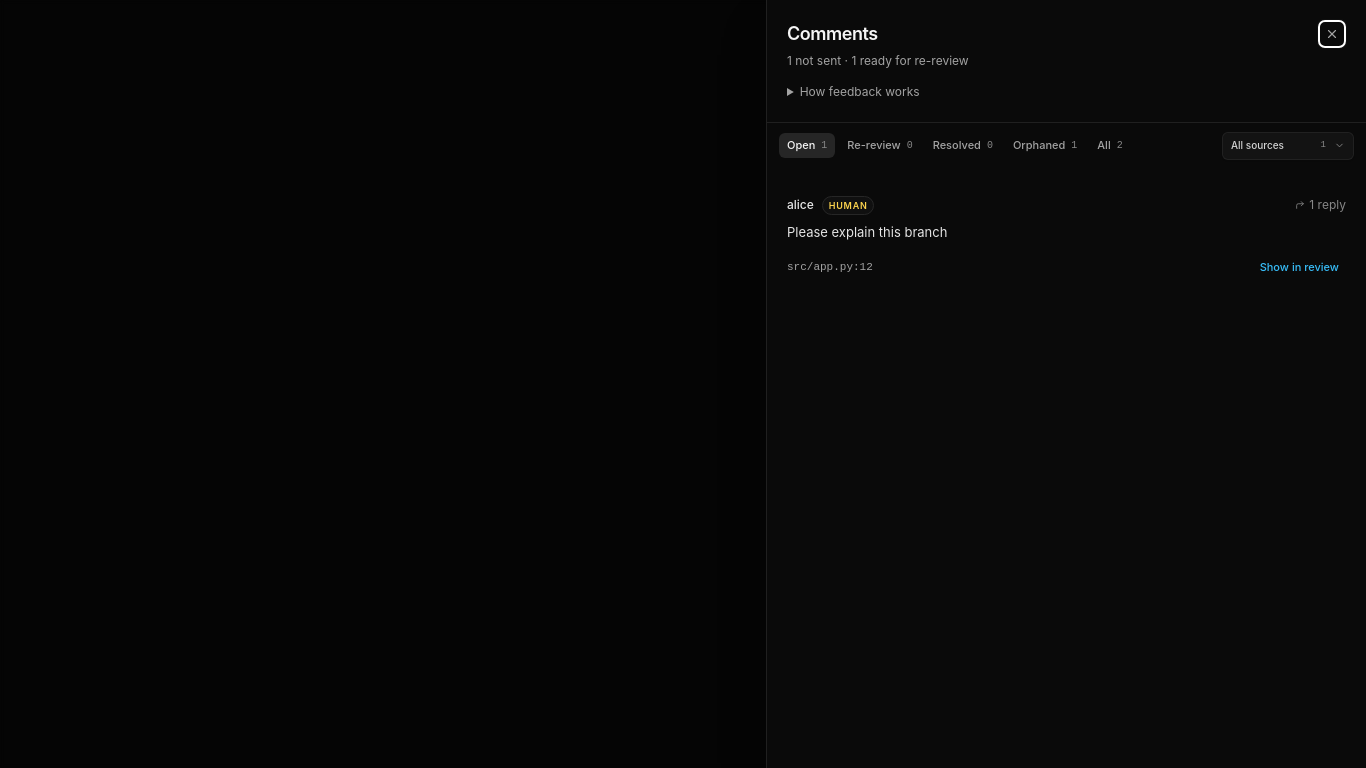
Test: ReviewCommentsSheet › shows the coding-agent handoff lifecycle and jumps only current anchored comments
Expected: the text "Please explain this branch" is shown, [787, 224, 947, 240]
Expected: the text "1 not sent · 1 ready for re-review" is shown, [787, 53, 969, 68]
Click the button "Show in review": (1299, 267) [1253, 253, 1346, 281]
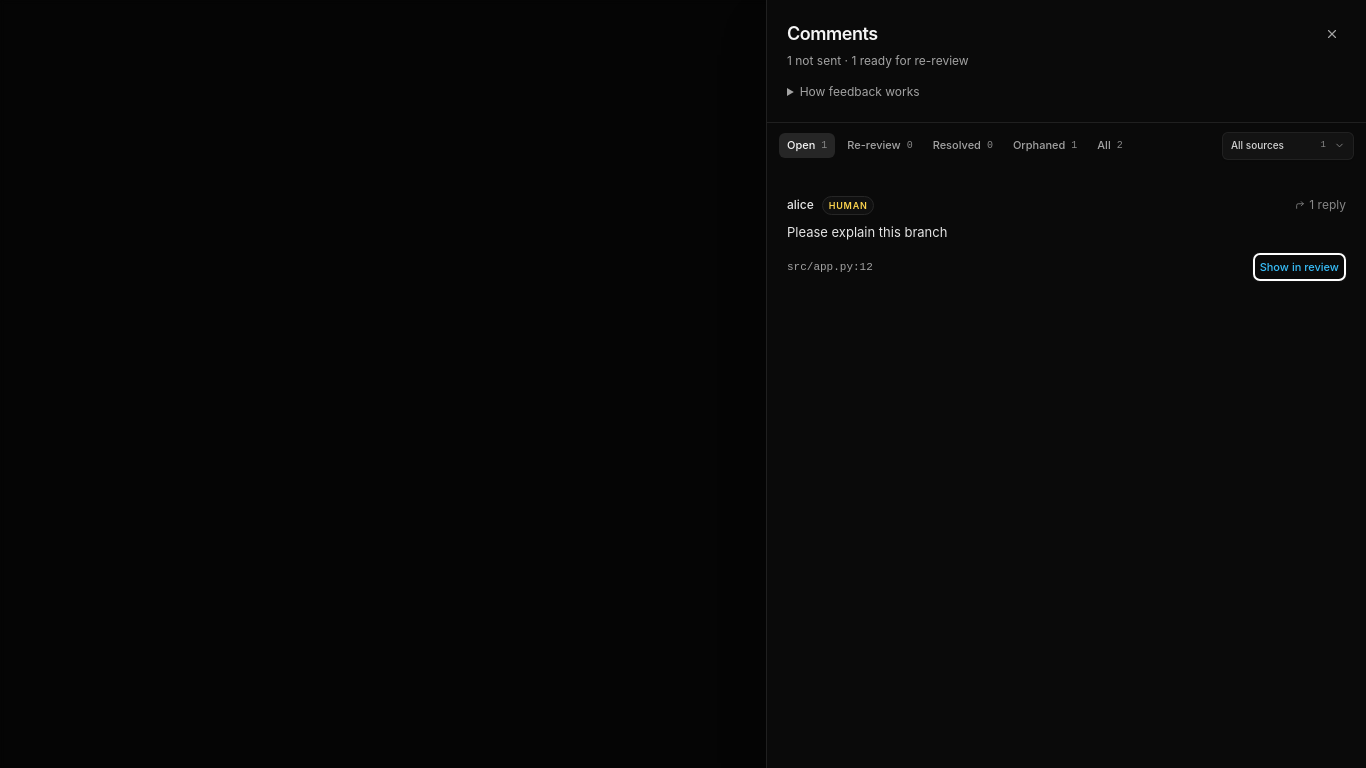
Click the tab "Orphaned 1": (1045, 145) [1005, 133, 1085, 158]
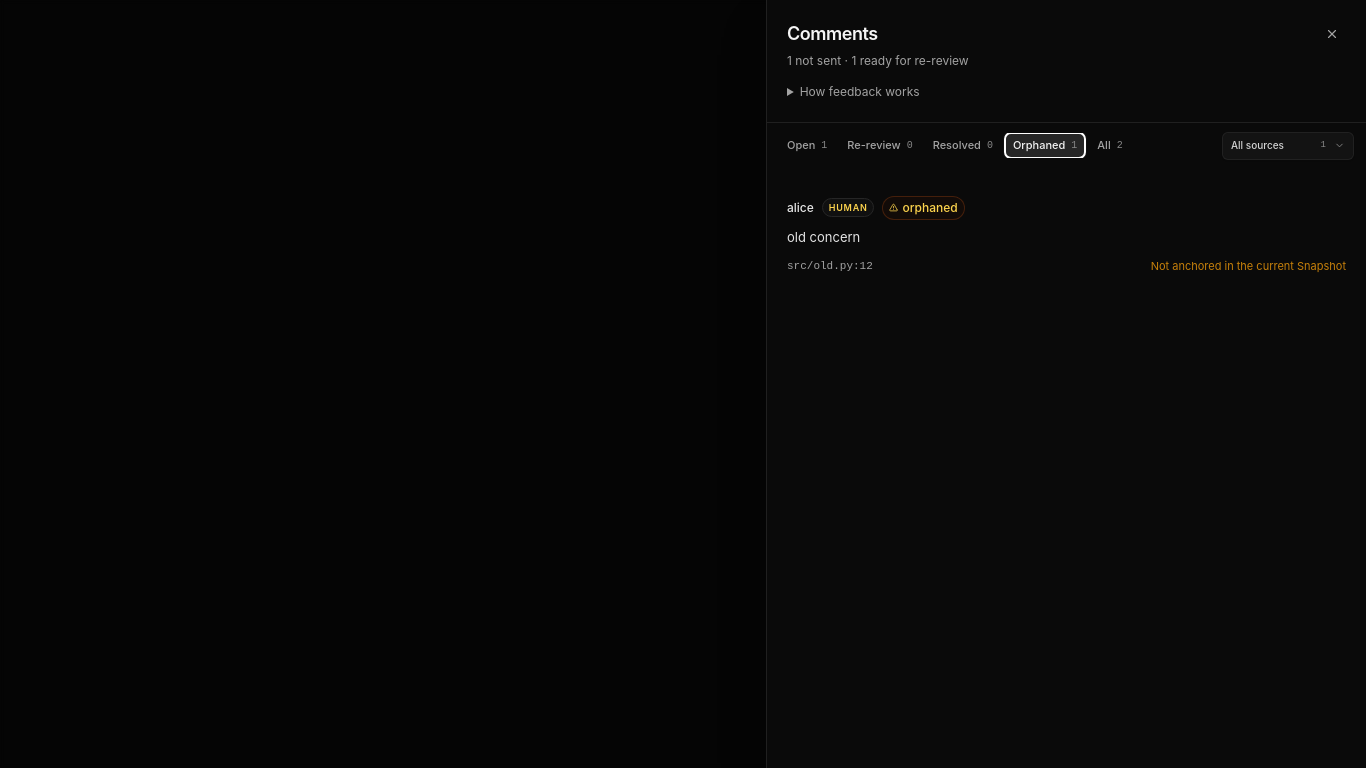
Expected: the text "old concern" is shown, [787, 228, 860, 244]
Expected: the text "Not anchored in the current Snapshot" is shown, [1151, 258, 1346, 274]
Expected: the button "Show in review" is gone
